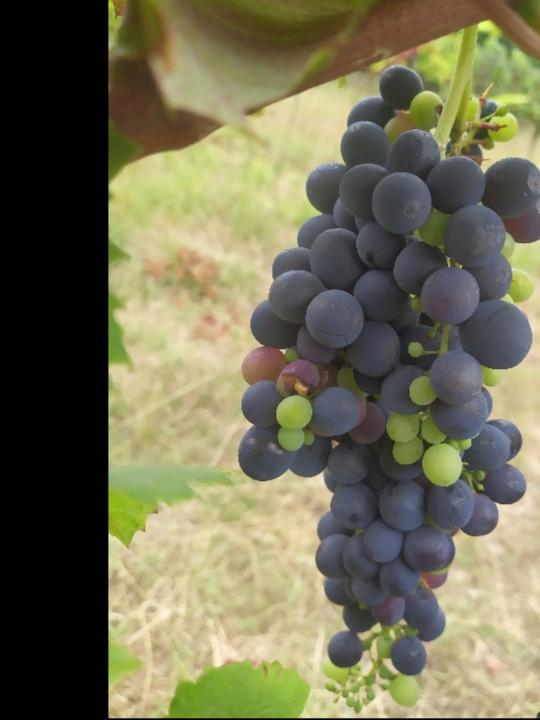grape: (237, 63, 540, 716)
